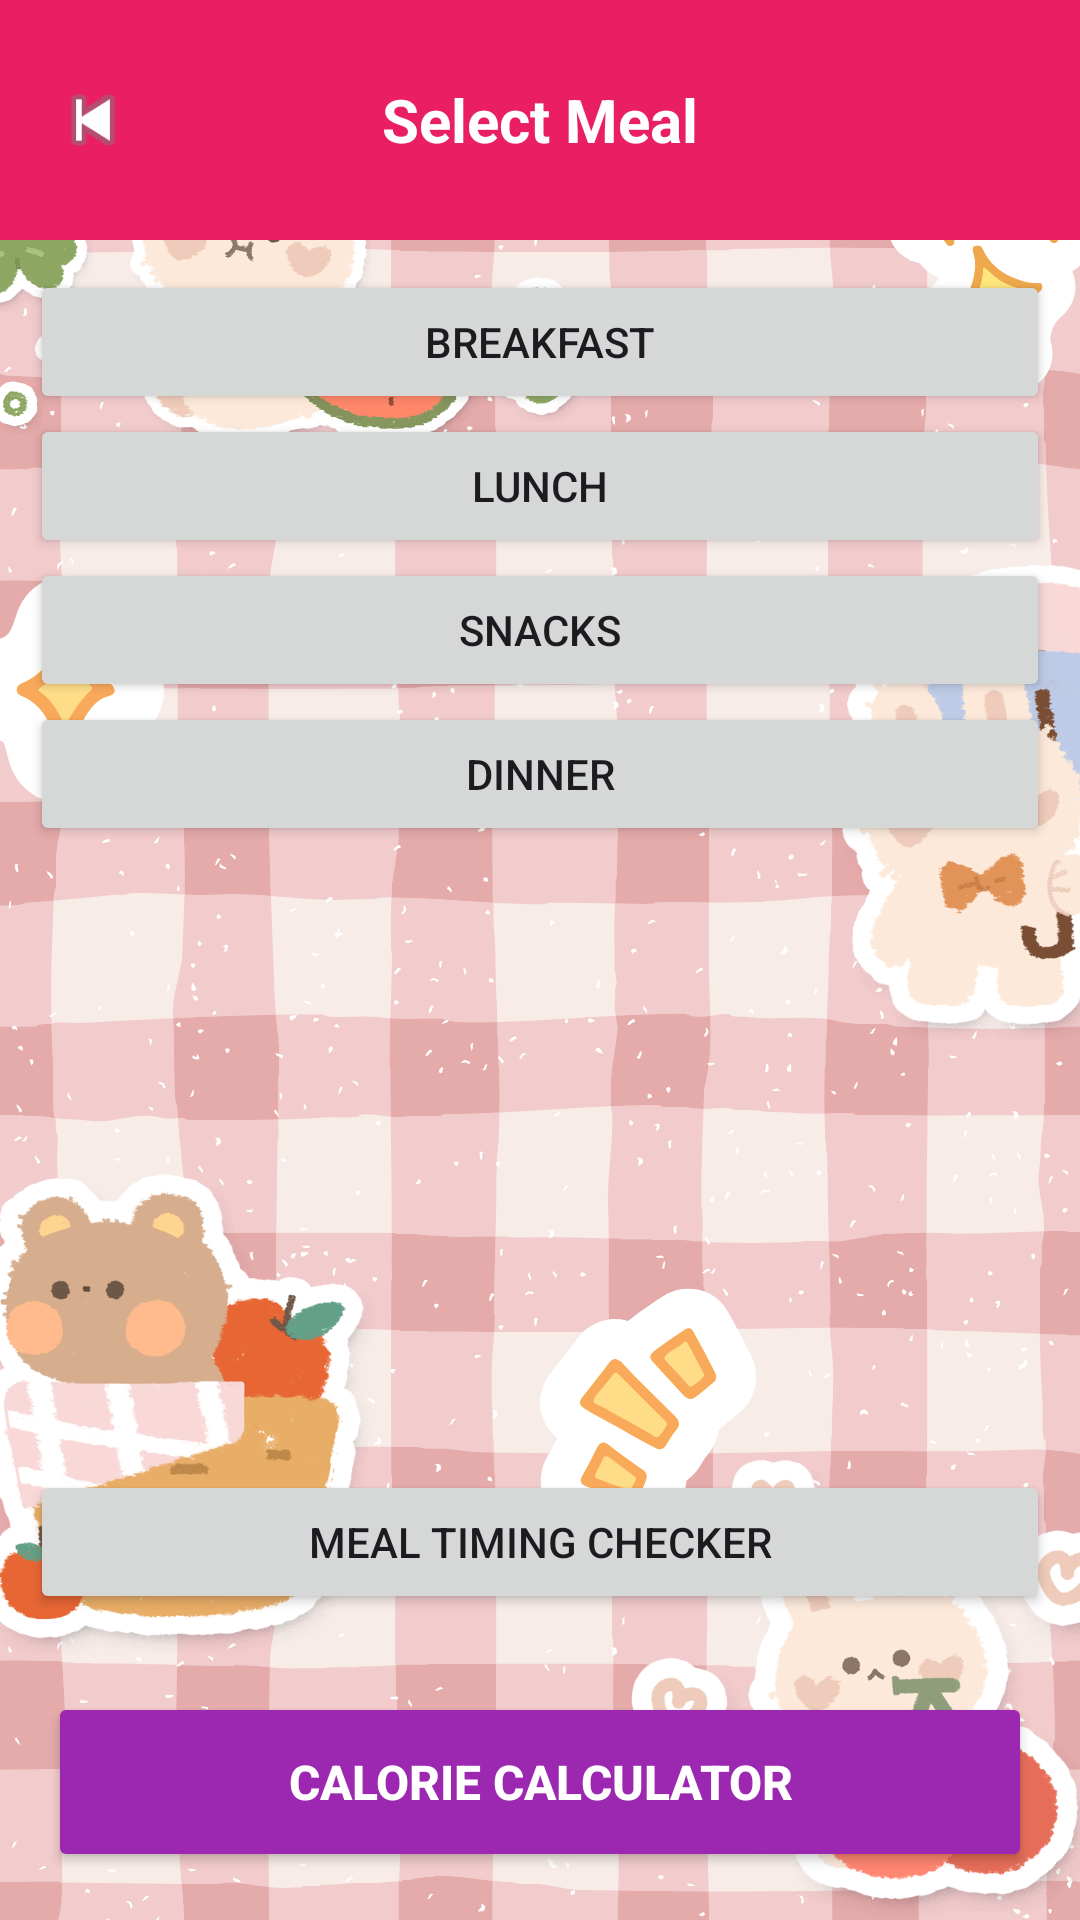

Icon click points for this 1080 × 1920 phone screenshot, format [x,y]:
previous: [93,120]
